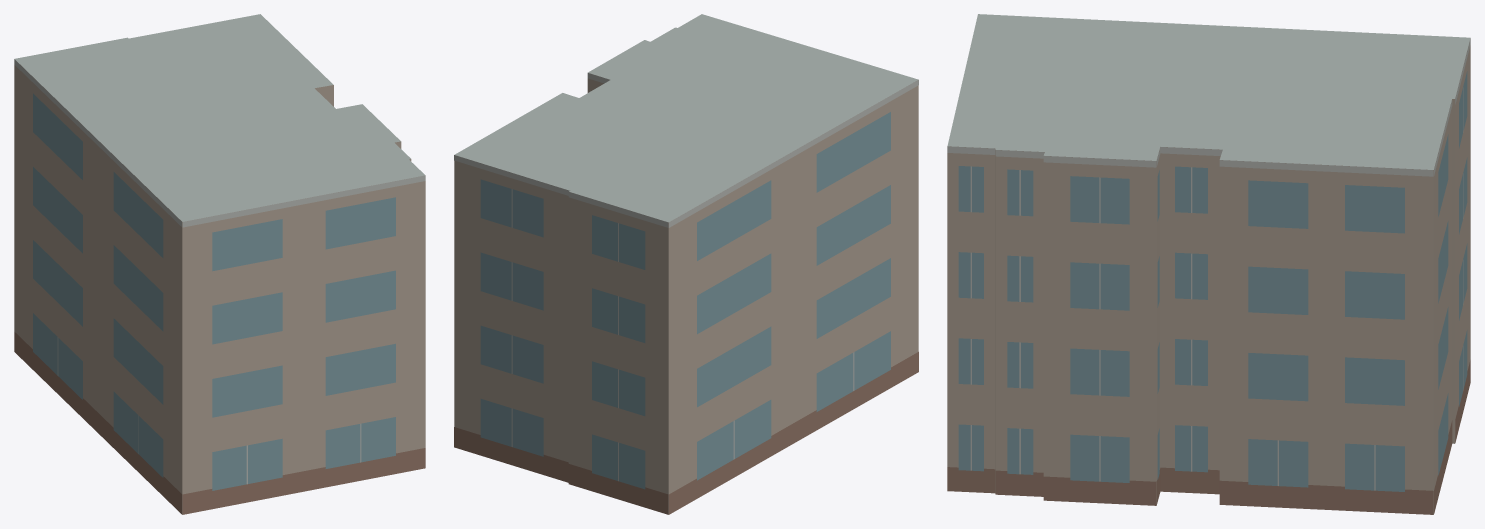
Rendered from survey-upis-32663669.glb.
3 renders of one model, left to right at view 1: azimuth 30°, elevation 25°; view 2: azimuth 150°, elevation 25°; view 3: azimuth 270°, elevation 25°, orthographic. The views are drawn at different scales.
Parts seen in each view (by area): view 1: survey-upis-32663669.tmp; view 2: survey-upis-32663669.tmp; view 3: survey-upis-32663669.tmp.
Part boxes in pixels (x1,y1,x2,y2): survey-upis-32663669.tmp: [14, 14, 425, 514]; survey-upis-32663669.tmp: [454, 14, 918, 514]; survey-upis-32663669.tmp: [947, 14, 1470, 514].
Bounding box in the file's own units: 12.34 × 12.7 × 17.47.
